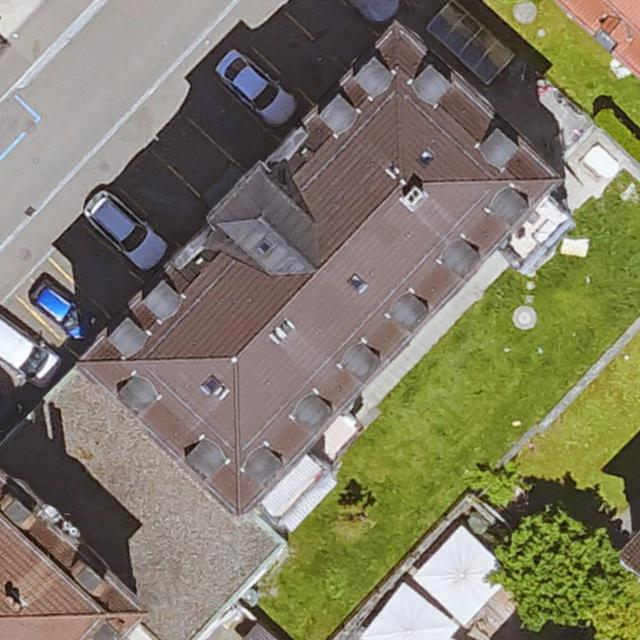tree: (493, 507, 627, 630)
